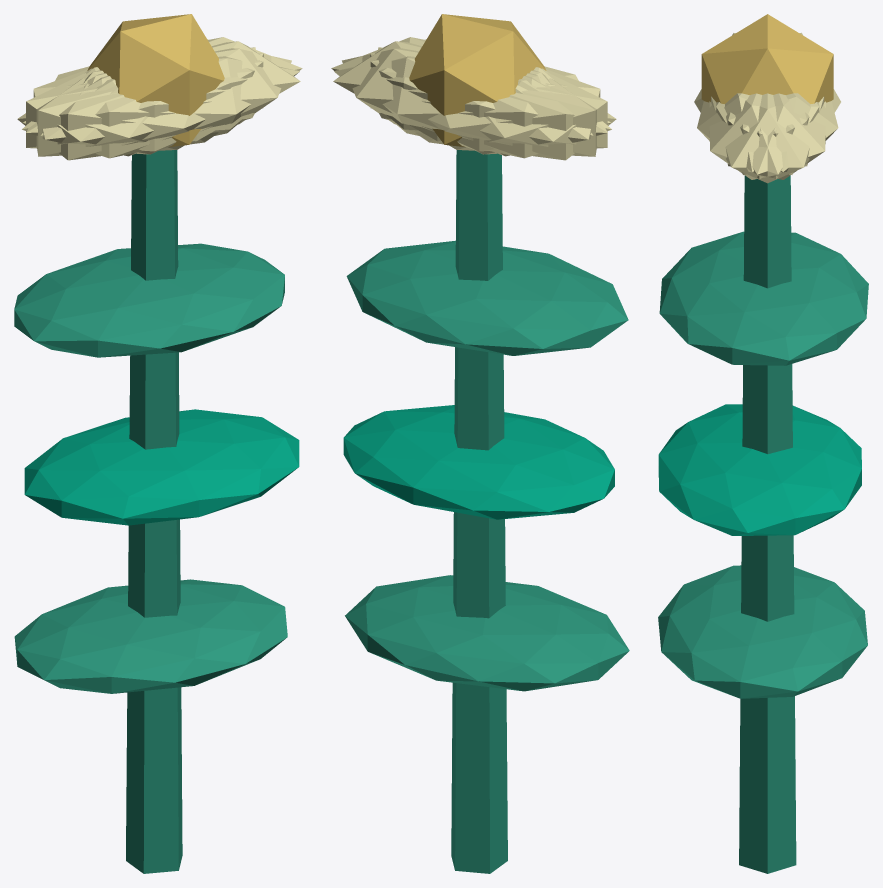
File: plumbago-auriculata.glb
3 views of the same model, side by side, from view 1: azimuth 30°, elevation 25°; view 2: azimuth 150°, elevation 25°; view 3: azimuth 270°, elevation 25° (orthographic).
Parts seen in each view (by area): view 1: stem, leaf1, leaf2, leaf0, center, petal1, petal6, petal2, petal5, petal7, petal0, petal4 (+2 smaller); view 2: stem, leaf2, leaf0, leaf1, center, petal8, petal3, petal7, petal4, petal2, petal0, petal5 (+2 smaller); view 3: stem, leaf2, leaf1, leaf0, center, petal0, petal4, petal5, petal8, petal1.
Part boxes in pixels (x1=…): stem: x1=126, y1=150, x2=182, y2=873; leaf1: x1=24, y1=409, x2=299, y2=525; leaf2: x1=14, y1=243, x2=284, y2=357; leaf0: x1=14, y1=579, x2=287, y2=693; center: x1=87, y1=14, x2=224, y2=146; petal1: x1=22, y1=56, x2=299, y2=158; petal6: x1=17, y1=68, x2=218, y2=160; petal2: x1=36, y1=47, x2=255, y2=156; petal5: x1=40, y1=48, x2=291, y2=151; petal7: x1=26, y1=53, x2=263, y2=154; petal0: x1=87, y1=41, x2=300, y2=141; petal4: x1=23, y1=37, x2=302, y2=132; stem: x1=451, y1=150, x2=507, y2=873; leaf2: x1=346, y1=240, x2=628, y2=355; leaf0: x1=345, y1=575, x2=629, y2=691; leaf1: x1=343, y1=405, x2=614, y2=519; center: x1=409, y1=14, x2=546, y2=146; petal8: x1=334, y1=56, x2=611, y2=158; petal3: x1=415, y1=68, x2=616, y2=160; petal7: x1=378, y1=47, x2=596, y2=156; petal4: x1=342, y1=48, x2=593, y2=151; petal2: x1=370, y1=53, x2=607, y2=154; petal0: x1=333, y1=41, x2=546, y2=141; petal5: x1=331, y1=37, x2=610, y2=132; stem: x1=739, y1=175, x2=796, y2=873; leaf2: x1=659, y1=231, x2=868, y2=365; leaf1: x1=658, y1=404, x2=861, y2=535; leaf0: x1=658, y1=565, x2=867, y2=698; center: x1=701, y1=14, x2=833, y2=103; petal0: x1=711, y1=93, x2=824, y2=183; petal4: x1=716, y1=93, x2=825, y2=179; petal5: x1=709, y1=93, x2=819, y2=179; petal8: x1=726, y1=93, x2=838, y2=172; petal1: x1=697, y1=93, x2=809, y2=172.
Bounding box in the file's own units: 0.1473 × 0.4254 × 0.0979.
